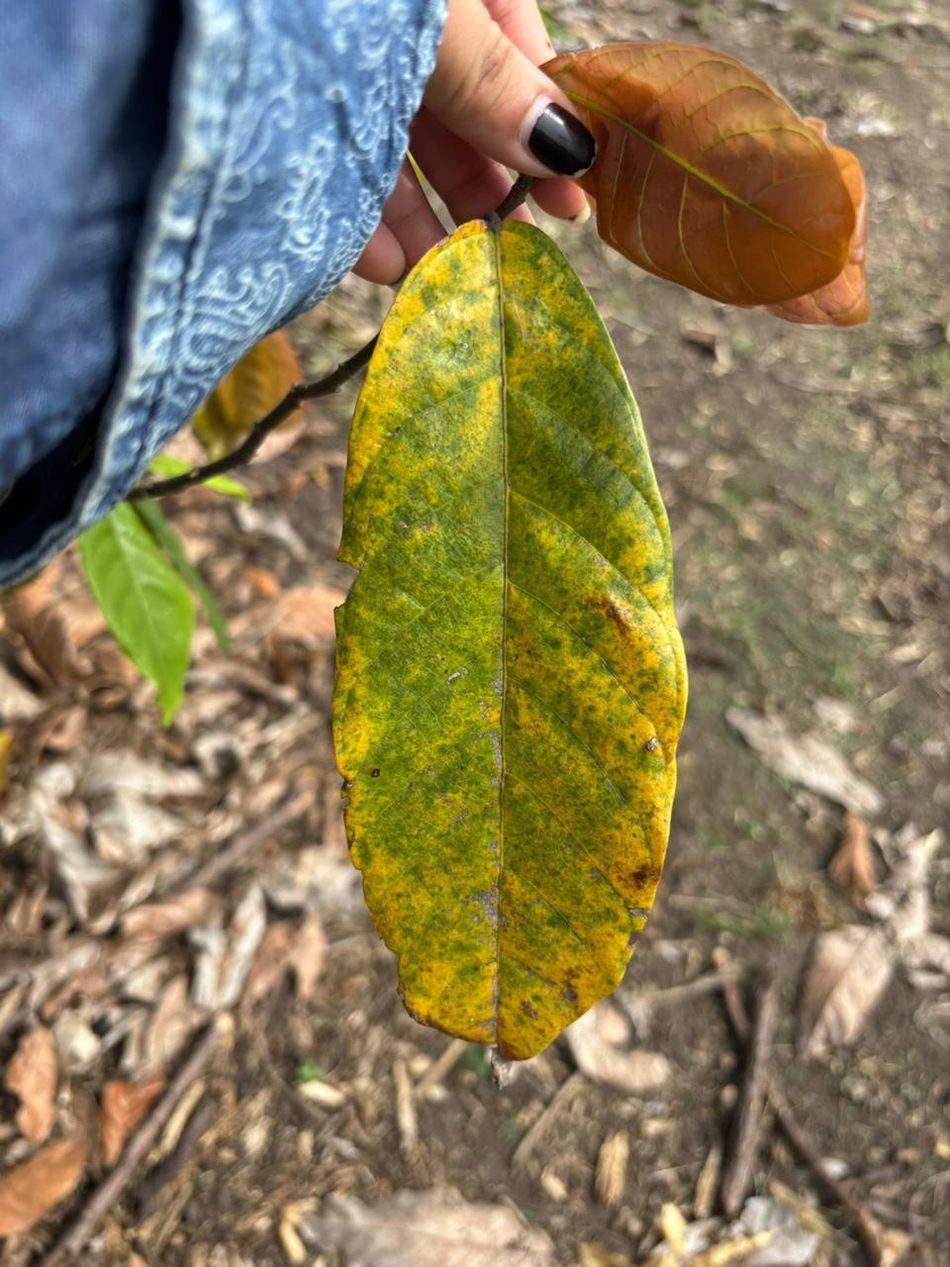deficienciia_fosforo: (333, 221, 685, 1059)
